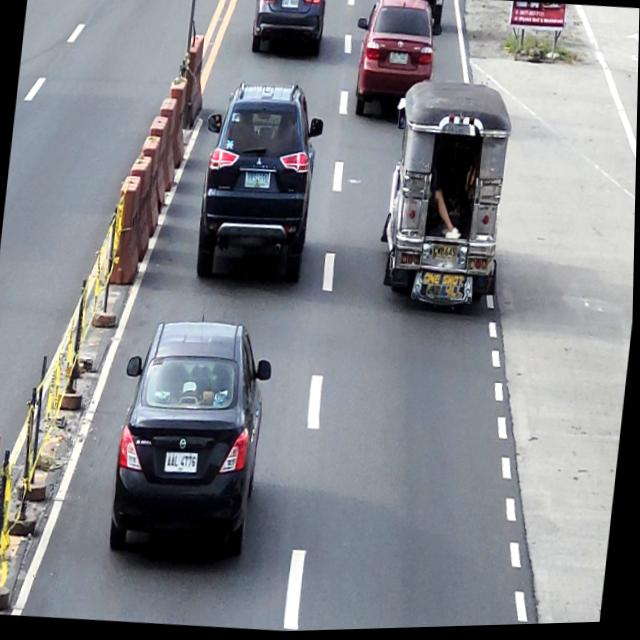Car: (108, 313, 279, 565), (192, 77, 329, 293), (347, 0, 440, 124), (250, 0, 327, 59)
Jeep: (375, 78, 518, 322)
License-Plate: (166, 451, 200, 475), (434, 245, 459, 264), (245, 172, 271, 190), (389, 52, 409, 68), (281, 0, 299, 10)
